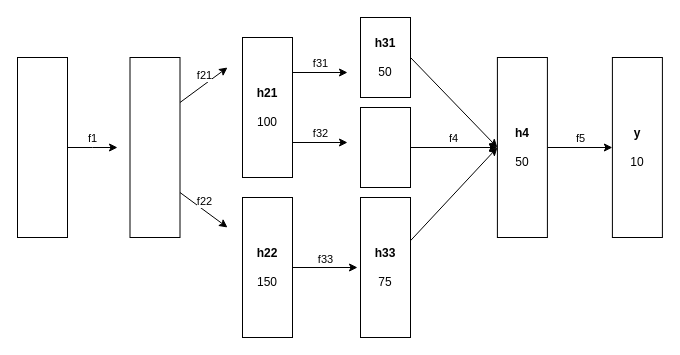
Image size: 680x355. Some labels were removed from this diagram. Each missing label, with the centre of its shape:
h1 300: the point at 154,147
h32 50: the point at 385,147
x 784: the point at 42,147
